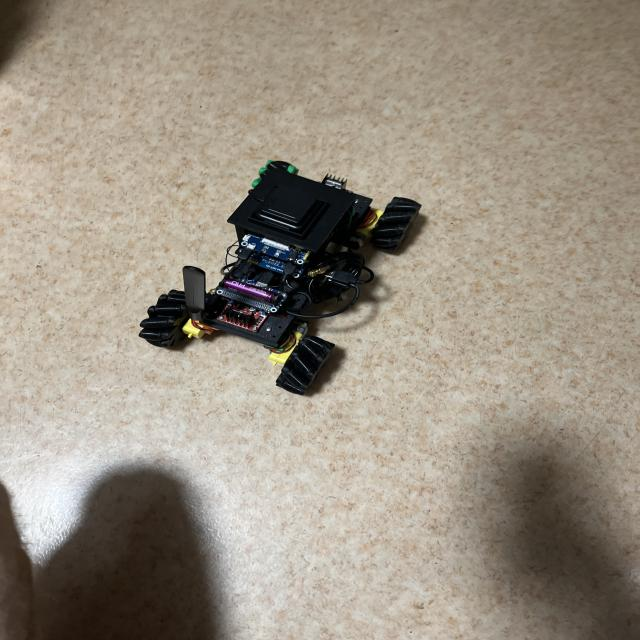robot: (139, 161, 420, 394)
